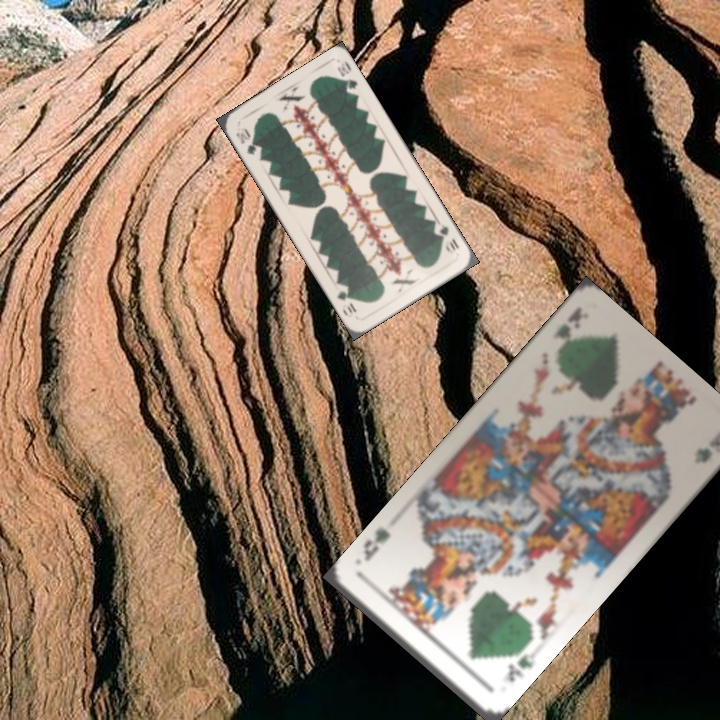G10: (434, 219, 462, 254), (232, 123, 259, 158)
GK: (549, 303, 591, 345), (503, 649, 538, 685)
